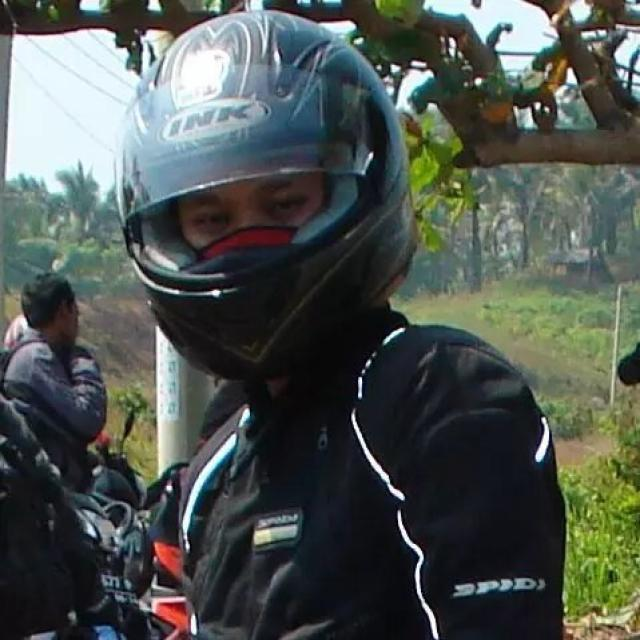helmet: (108, 5, 424, 393)
